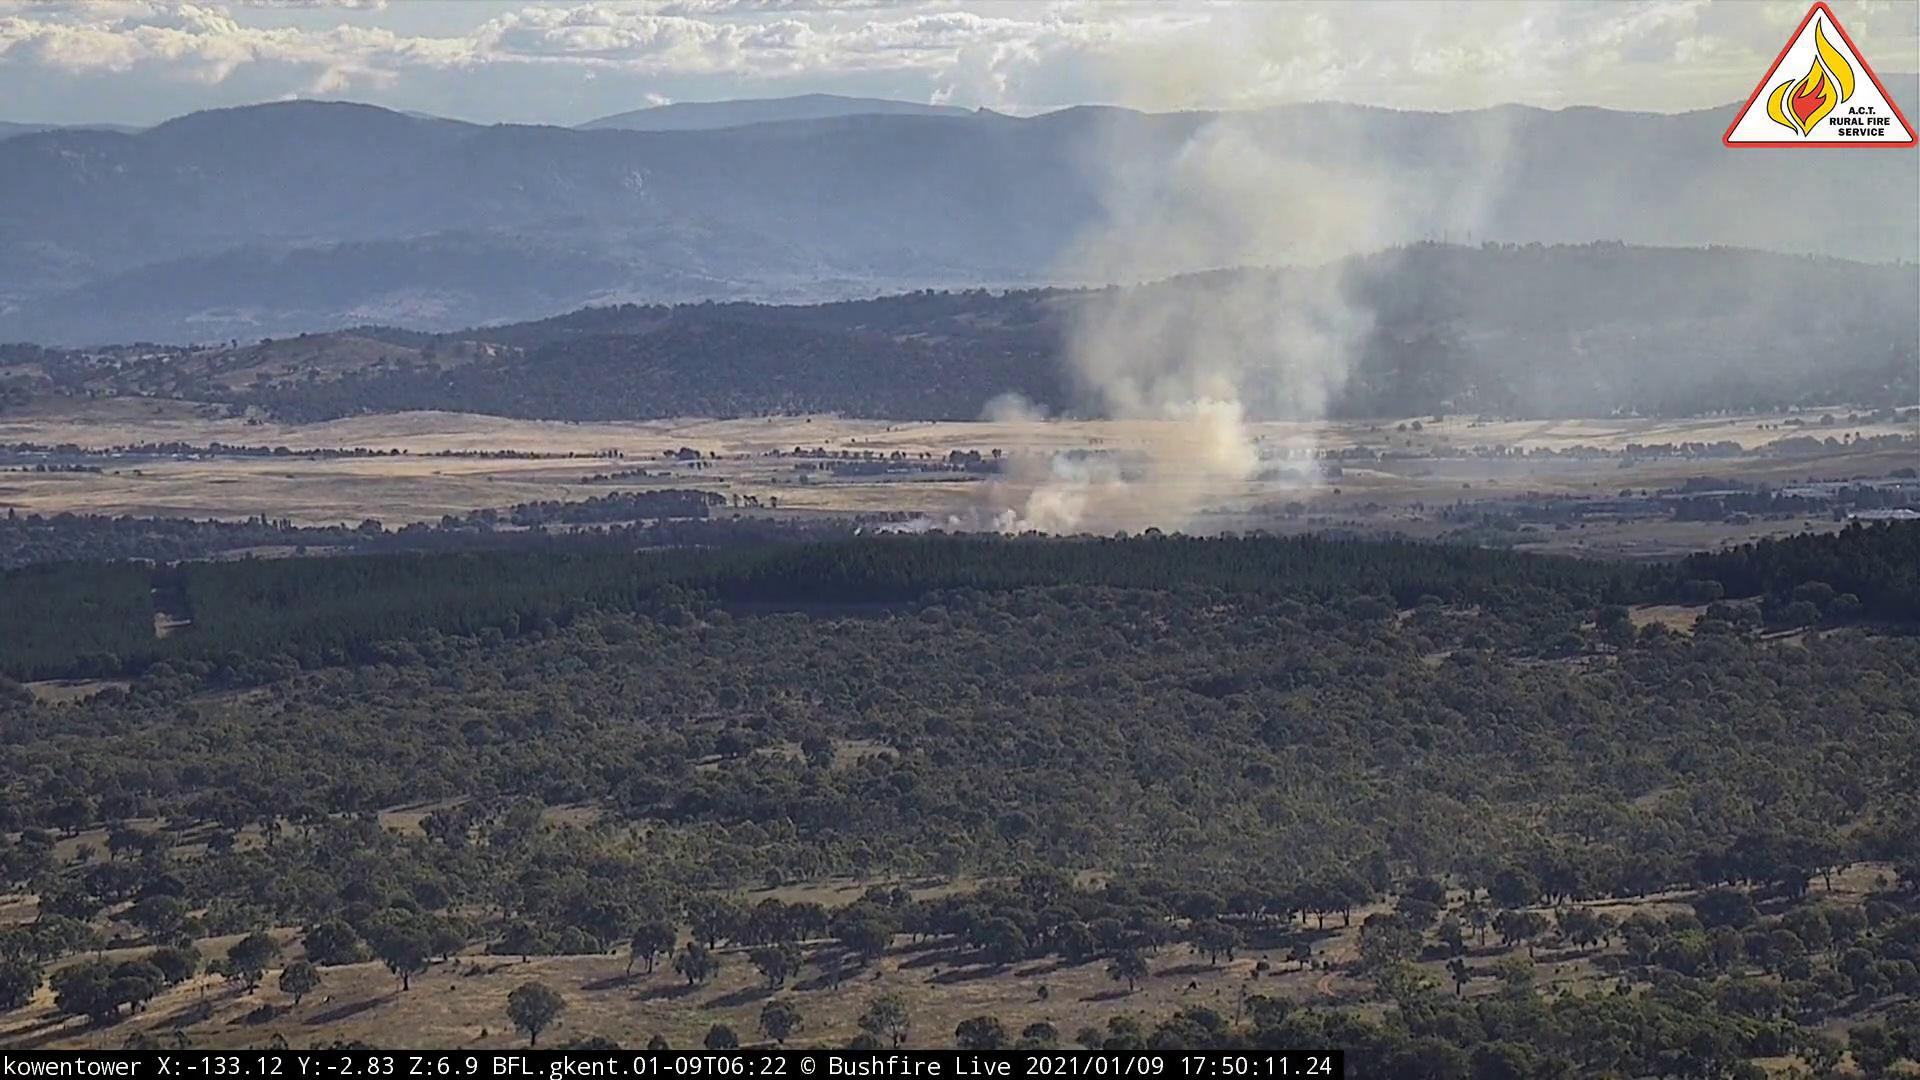Smoke: (881, 3, 1714, 549)
